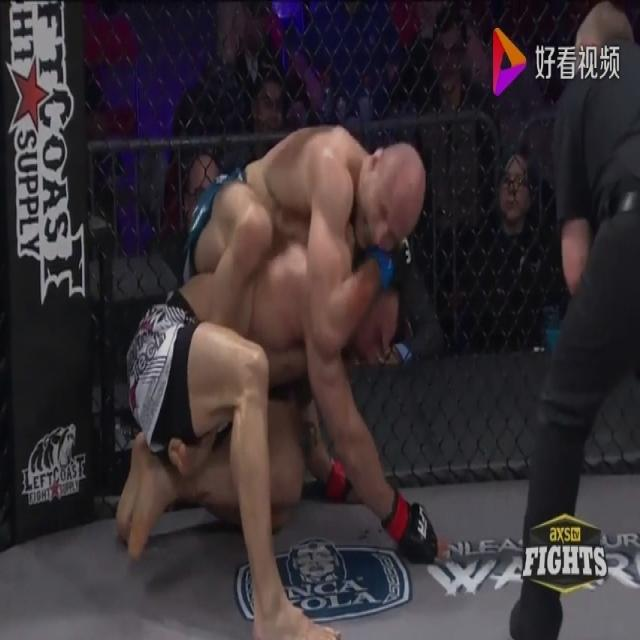fight: (111, 111, 457, 633)
non-fight: (496, 0, 640, 639)
